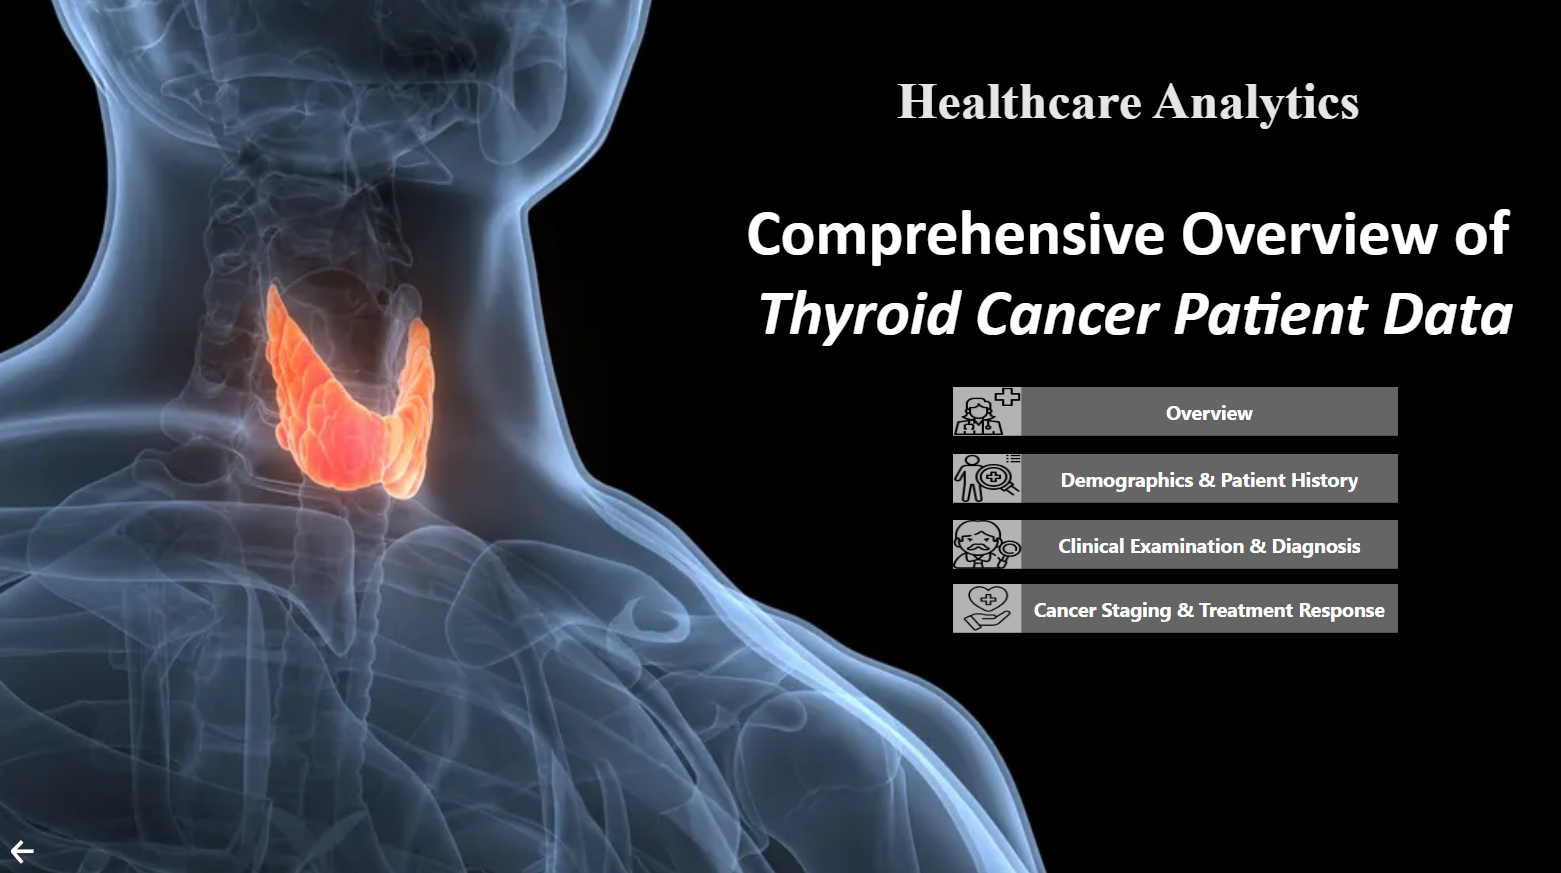

What the dashboard file says about the page in this screenshot:
{"tool":"powerbi","page":{"name":"Selection Panel","canvas":[1280,720],"ordinal":1},"visuals":[{"type":"textbox","box":[586.9,53.1,688.7,257.7],"z":0},{"type":"shape","box":[837.4,318.2,308.7,40.4],"z":1000},{"type":"shape","box":[837.4,373,308.7,40.4],"z":2000},{"type":"shape","box":[837.4,426.8,308.7,40.4],"z":3000},{"type":"shape","box":[837.4,479.7,308.7,40.4],"z":4000},{"type":"image","box":[781.6,318.2,55.8,40.4],"z":5000},{"type":"image","box":[781.6,479.7,55.8,40.4],"z":6000},{"type":"image","box":[781.6,373,55.8,40.4],"z":7000},{"type":"image","box":[781.6,426.8,55.8,40.4],"z":8000},{"type":"actionButton","box":[5.7,685.2,35.2,27.9],"z":9000}]}

Visuals, with their boxes in screenshot pixels (x1, y1, x2, y2), scaled from the page's 1280x720 canvas onto the 1561x873 screenshot:
textbox: 716/64/1556/377
shape: 1021/386/1398/435
shape: 1021/452/1398/501
shape: 1021/517/1398/566
shape: 1021/582/1398/631
image: 953/386/1021/435
image: 953/582/1021/631
image: 953/452/1021/501
image: 953/517/1021/566
actionButton: 7/831/50/865
